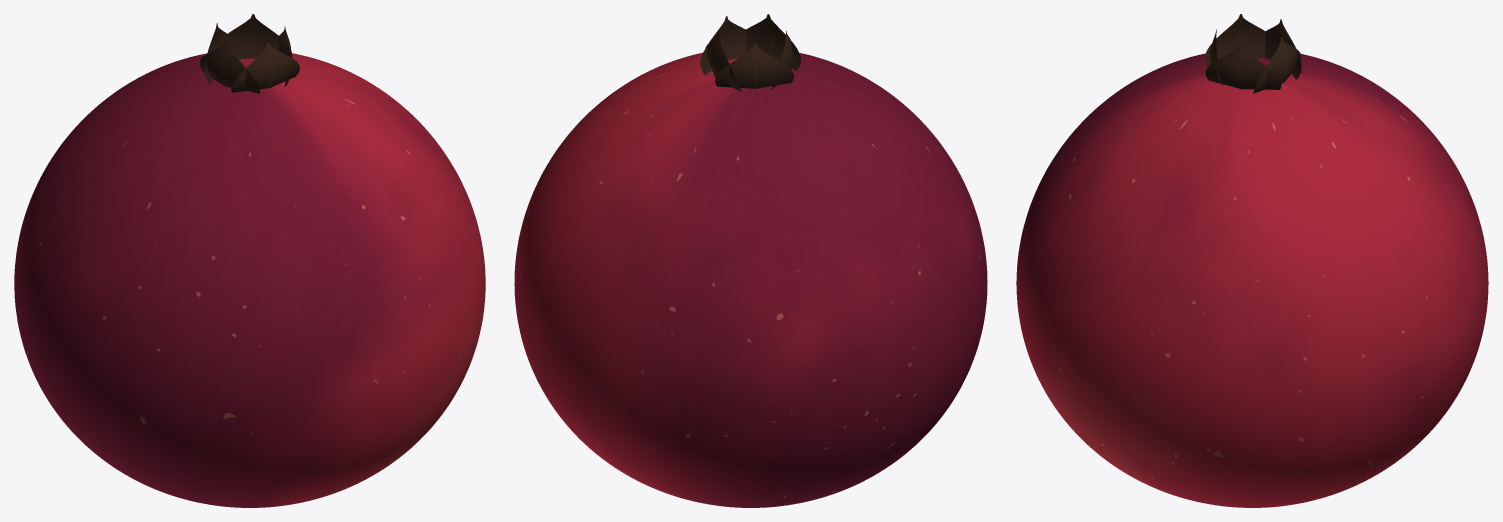
The model's file is goyavier.glb.
3 renders of one model, left to right at view 1: azimuth 30°, elevation 25°; view 2: azimuth 150°, elevation 25°; view 3: azimuth 270°, elevation 25°, orthographic.
Visible parts, largest first — view 1: entier_peau, moitie_A_peau, moitie_B_peau, entier_extra1, entier_extra4, entier_extra2; view 2: entier_peau, moitie_B_peau, moitie_A_peau, entier_extra3, entier_extra1, entier_extra0, entier_extra4; view 3: entier_peau, moitie_A_peau, moitie_B_peau, entier_extra0, entier_extra2, entier_extra4, entier_extra3.
Boxes of the visible parts, x1=… form: entier_peau: x1=14, y1=53, x2=485, y2=507; moitie_A_peau: x1=49, y1=66, x2=485, y2=507; moitie_B_peau: x1=14, y1=53, x2=374, y2=444; entier_extra1: x1=231, y1=42, x2=299, y2=92; entier_extra4: x1=227, y1=14, x2=292, y2=59; entier_extra2: x1=199, y1=40, x2=260, y2=93; entier_peau: x1=514, y1=53, x2=987, y2=507; moitie_B_peau: x1=514, y1=64, x2=952, y2=507; moitie_A_peau: x1=652, y1=53, x2=987, y2=440; entier_extra3: x1=715, y1=42, x2=794, y2=88; entier_extra1: x1=745, y1=14, x2=800, y2=70; entier_extra0: x1=700, y1=16, x2=745, y2=75; entier_extra4: x1=705, y1=34, x2=741, y2=92; entier_peau: x1=1016, y1=54, x2=1488, y2=507; moitie_A_peau: x1=1016, y1=53, x2=1250, y2=507; moitie_B_peau: x1=1254, y1=54, x2=1488, y2=507; entier_extra0: x1=1205, y1=43, x2=1281, y2=89; entier_extra2: x1=1205, y1=14, x2=1265, y2=66; entier_extra4: x1=1253, y1=37, x2=1301, y2=93; entier_extra3: x1=1264, y1=19, x2=1301, y2=79.
Size of the model in its own units: 0.031 by 0.033 by 0.031.
Materials: 3 (3 with a texture image).
